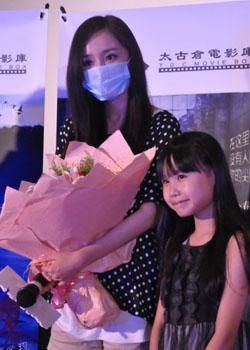NONE: (165, 169, 209, 217)
OK: (76, 46, 132, 102)
